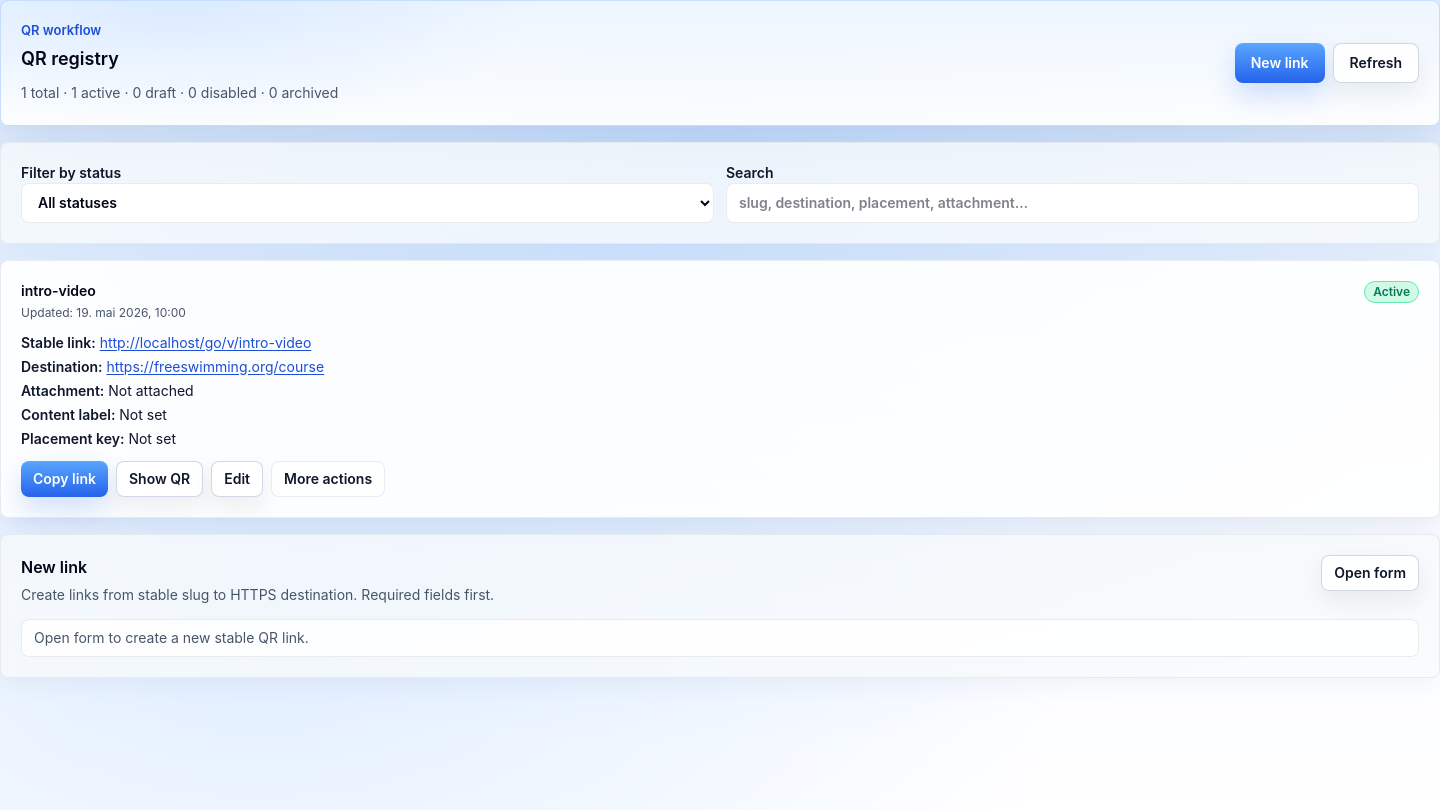
Test case: AdminQrLinksManager state rendering › renders no-results state from existing filters and clears back to the list
expect the text "intro-video" is shown: met, box [21, 282, 96, 298]
Select "Archived" in the dropdown labelled "Filter by status" at x=368, y=202, box [21, 182, 714, 222]
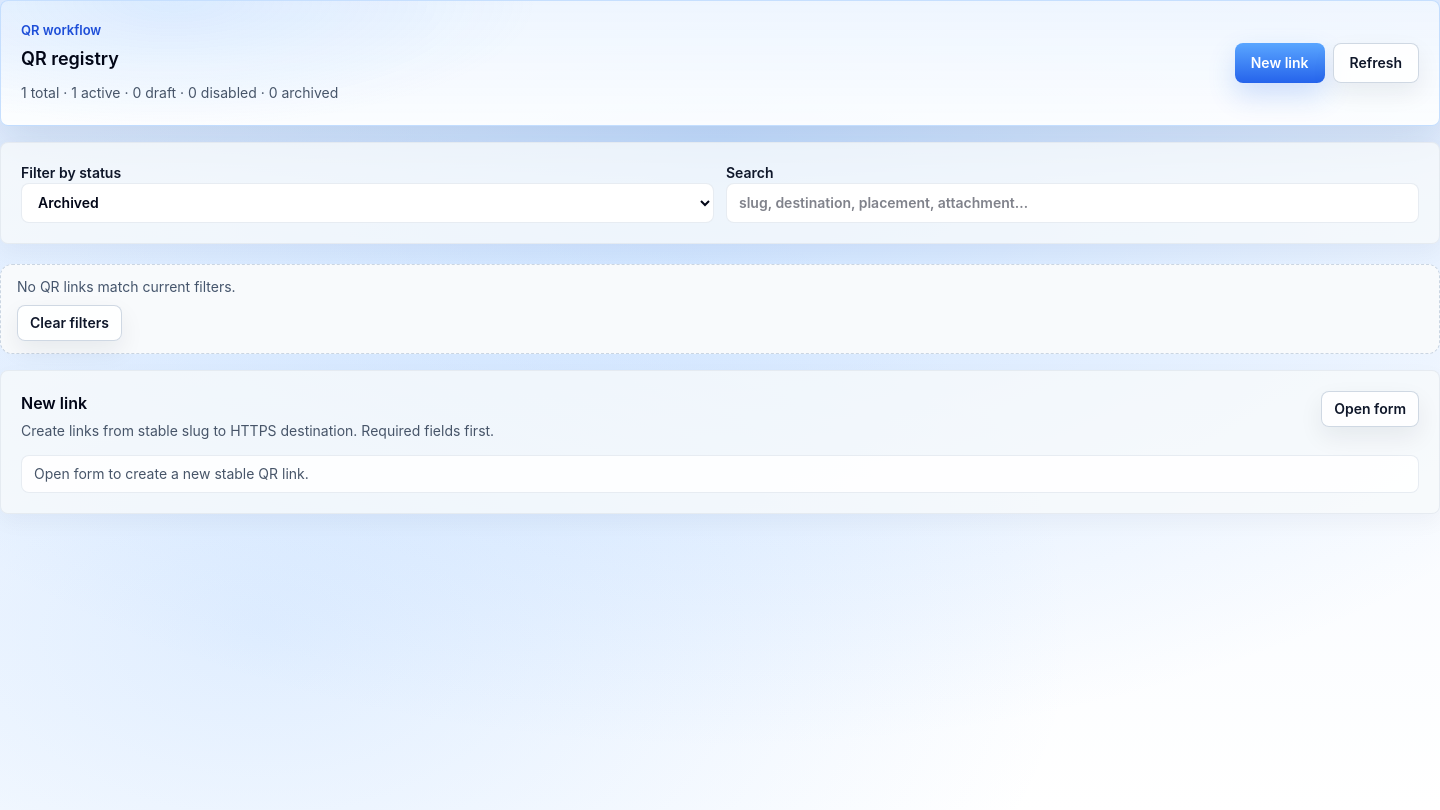
expect the text "No QR links match current filters." is shown: met, box [17, 278, 236, 294]
Click the button "Clear filters".
click(69, 322)  # box [17, 304, 122, 340]
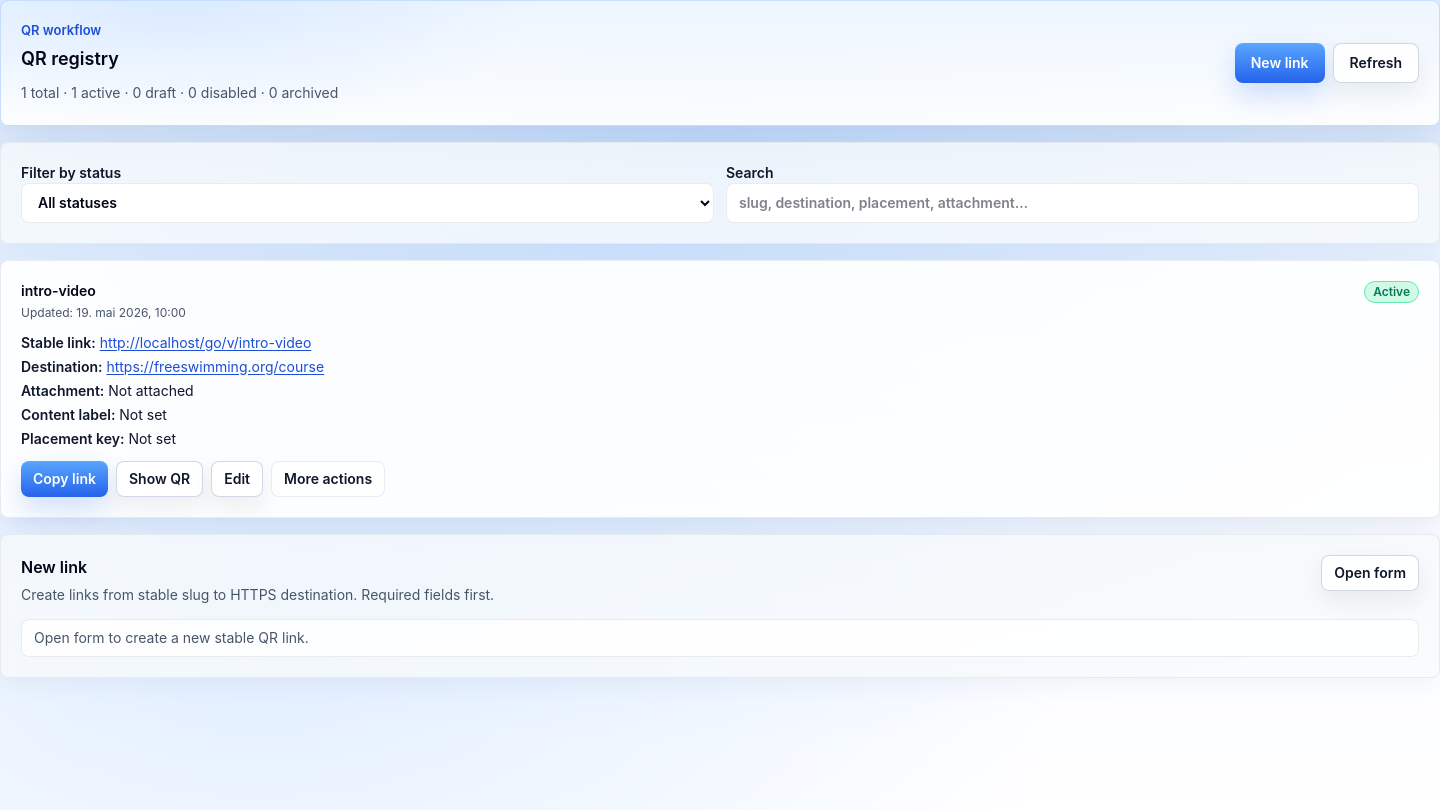
expect the text "intro-video" is shown: met, box [21, 282, 96, 298]
expect the text "No QR links match current filters." is gone: met
